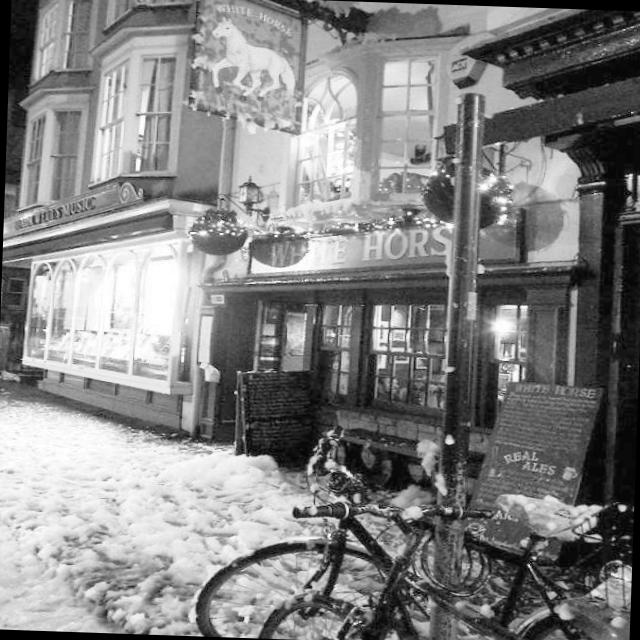Bicycle: (218, 398, 637, 640)
